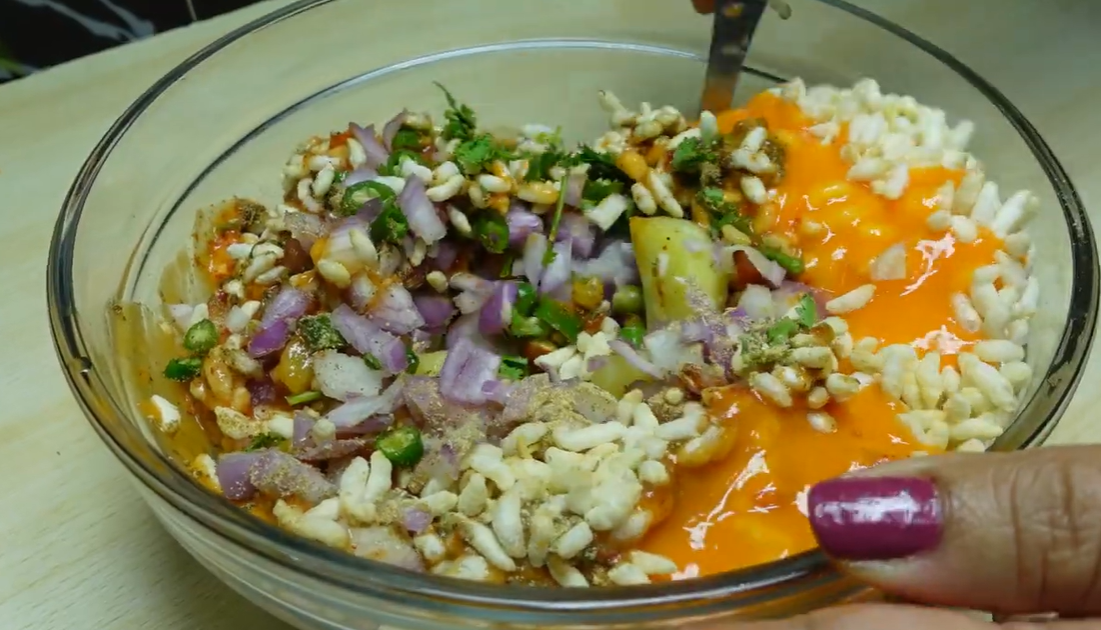chatpate: (186, 94, 986, 501)
